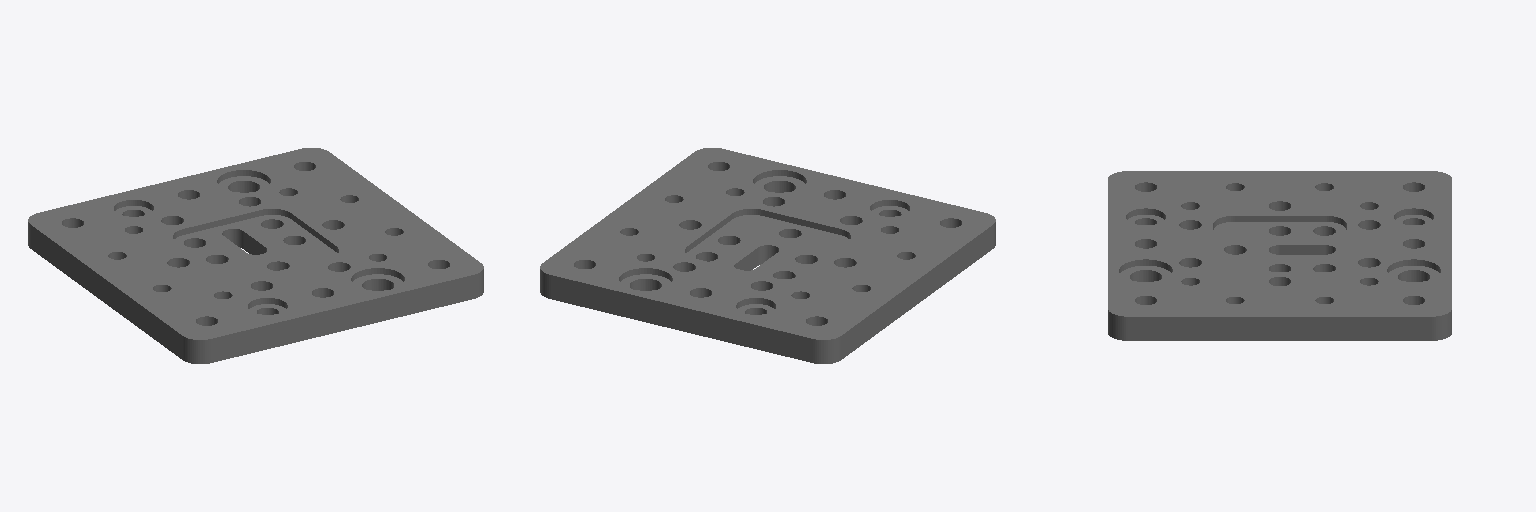
Rendered from LeftVerticalRotationSlider_0.obj.
3 views of the same model, side by side, from view 1: azimuth 30°, elevation 25°; view 2: azimuth 150°, elevation 25°; view 3: azimuth 270°, elevation 25° (orthographic).
Bounding box in the file's own units: 0.0772 × 0.006 × 0.0772.